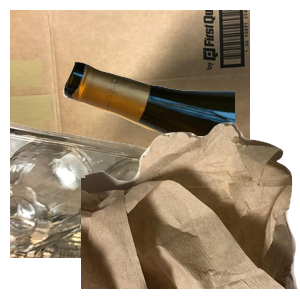cardboard: (10, 10, 250, 190)
glass: (60, 59, 300, 231)
plastic: (10, 120, 250, 300)
trash: (81, 120, 300, 300)
